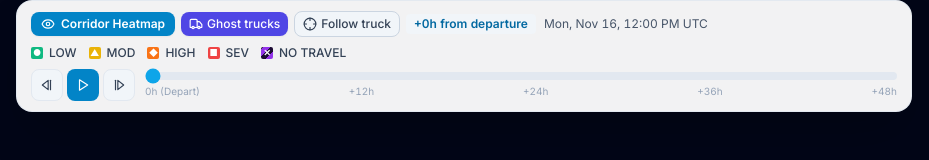
Test case: HeatmapDock 0–48h slider › updates offset label immediately and notifies bridge via requestAnimationFrame without refetching
Set the slider named "forecast hour offset from departure" to "18" at (429, 76), box [145,72,897,80]
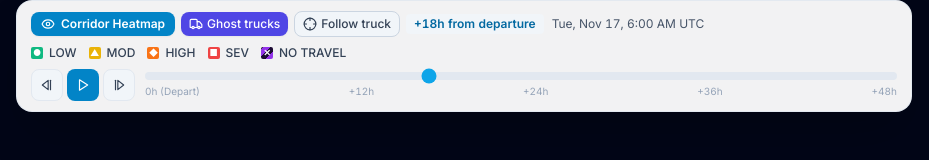
Expected: the text with test id "heatmap-offset-label" reads "+18h from departure", [414,16,536,31]
Click the button named "step forward 1 hour" at (119, 85), box [103,69,135,101]
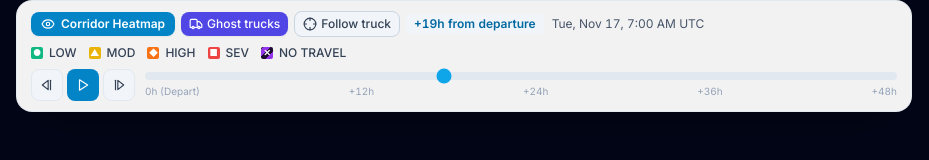
Expected: the text with test id "heatmap-offset-label" reads "+19h from departure", [414,16,536,31]
Click the button named "step back 1 hour" at (47, 85), box [31,69,63,101]
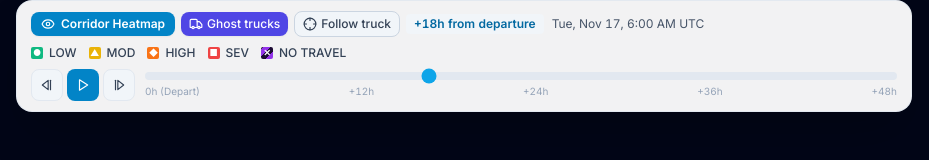
Expected: the text with test id "heatmap-offset-label" reads "+18h from departure", [414,16,536,31]
